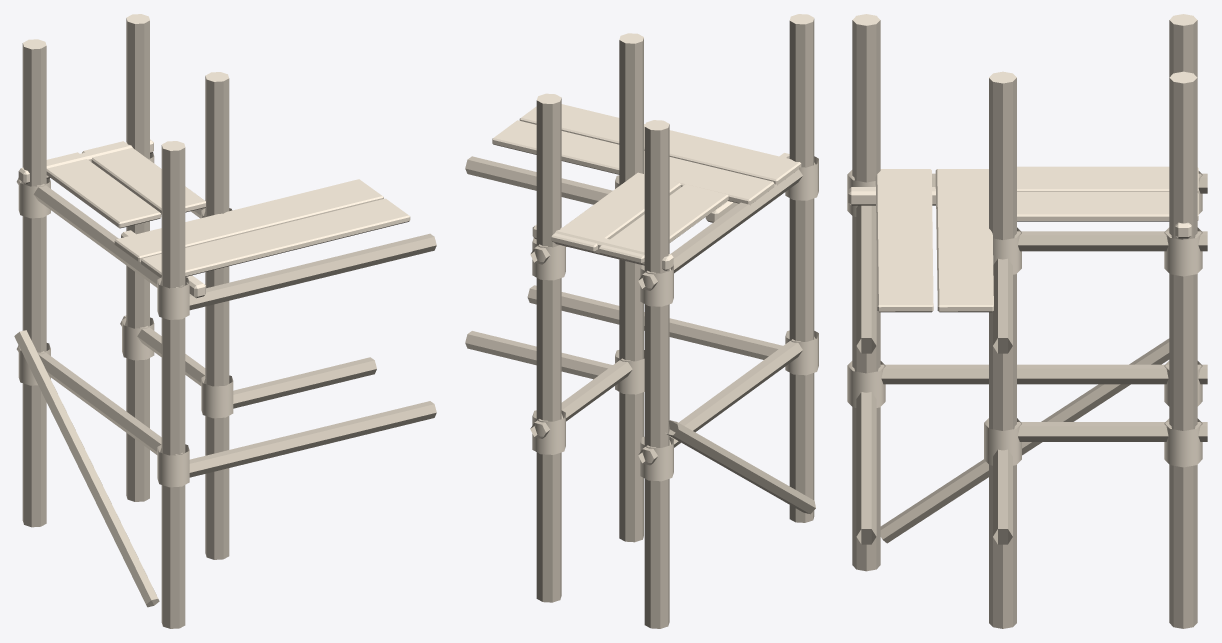
The model's file is SM_VK_Scaffold_Corner.fbx.
3 renders of one model, left to right at view 1: azimuth 30°, elevation 25°; view 2: azimuth 150°, elevation 25°; view 3: azimuth 270°, elevation 25°, orthographic. The views are drawn at different scales.
Visible parts, largest first — view 1: SM_VK_Scaffold_Corner.001; view 2: SM_VK_Scaffold_Corner.001; view 3: SM_VK_Scaffold_Corner.001.
Boxes of the visible parts, x1,y1,x2,y2 form: SM_VK_Scaffold_Corner.001: (14, 14, 436, 628); SM_VK_Scaffold_Corner.001: (465, 14, 818, 628); SM_VK_Scaffold_Corner.001: (847, 14, 1207, 628).
Size of the model in its own units: 1.83 by 3 by 1.8.
